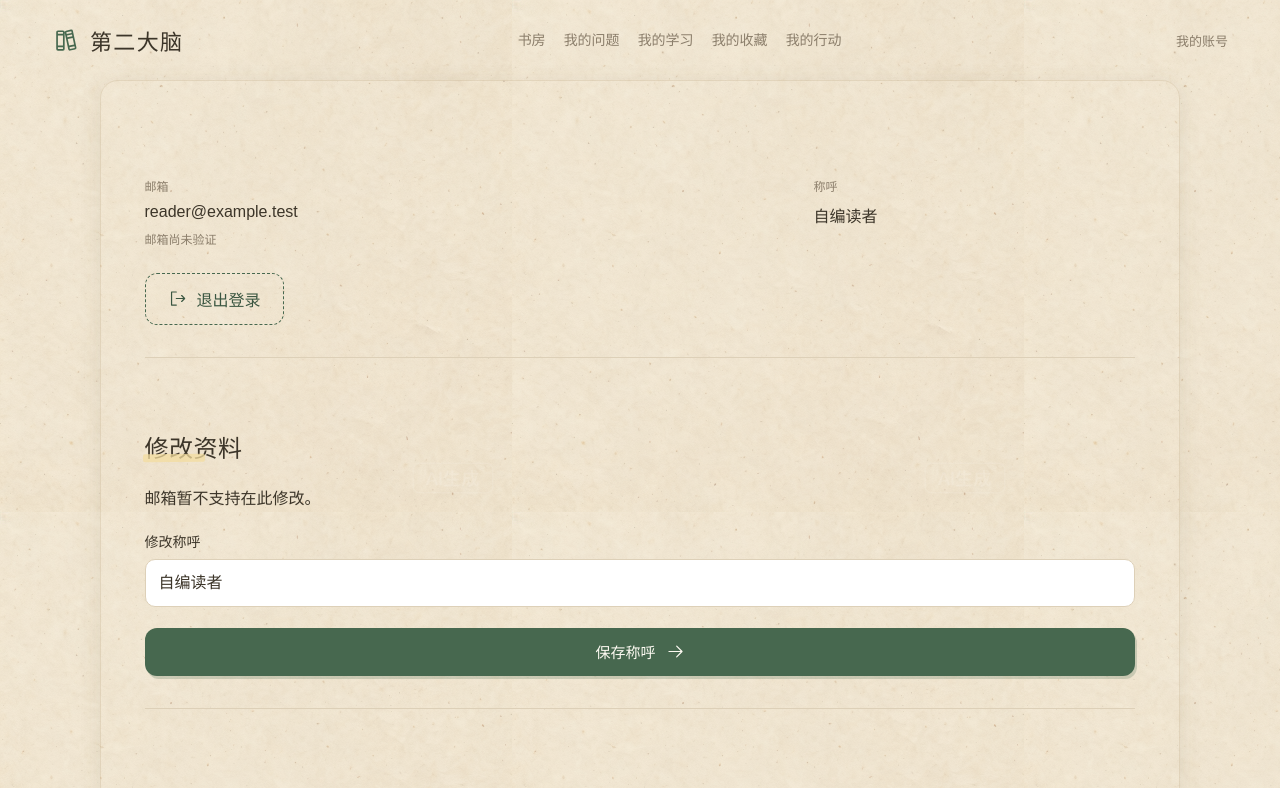
Scenario: 修改称呼只提交公开字段，成功更新当前账号显示
Replace the text in the field labelled "修改称呼" with "新称呼" at point(640, 583), box [144,559,1136,607]
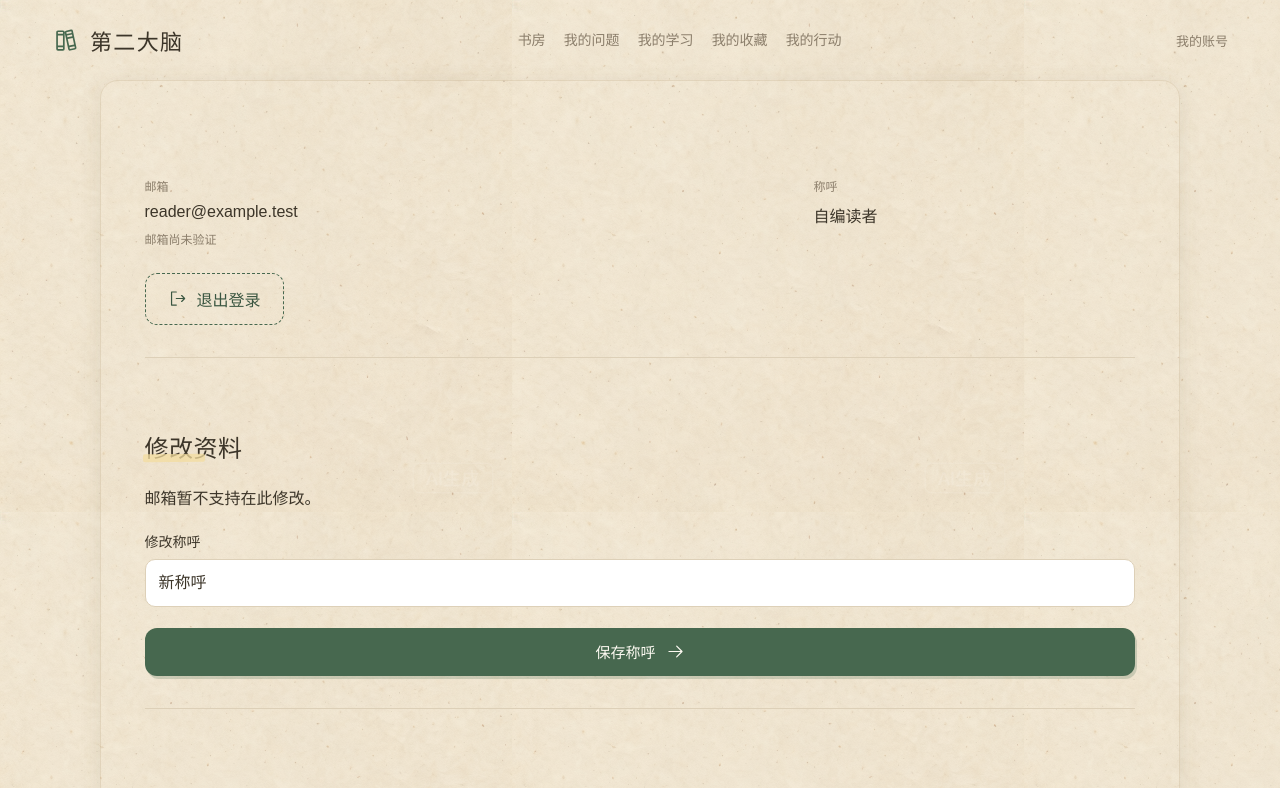
Click the button "保存称呼" at point(640, 652), box [144,628,1136,676]
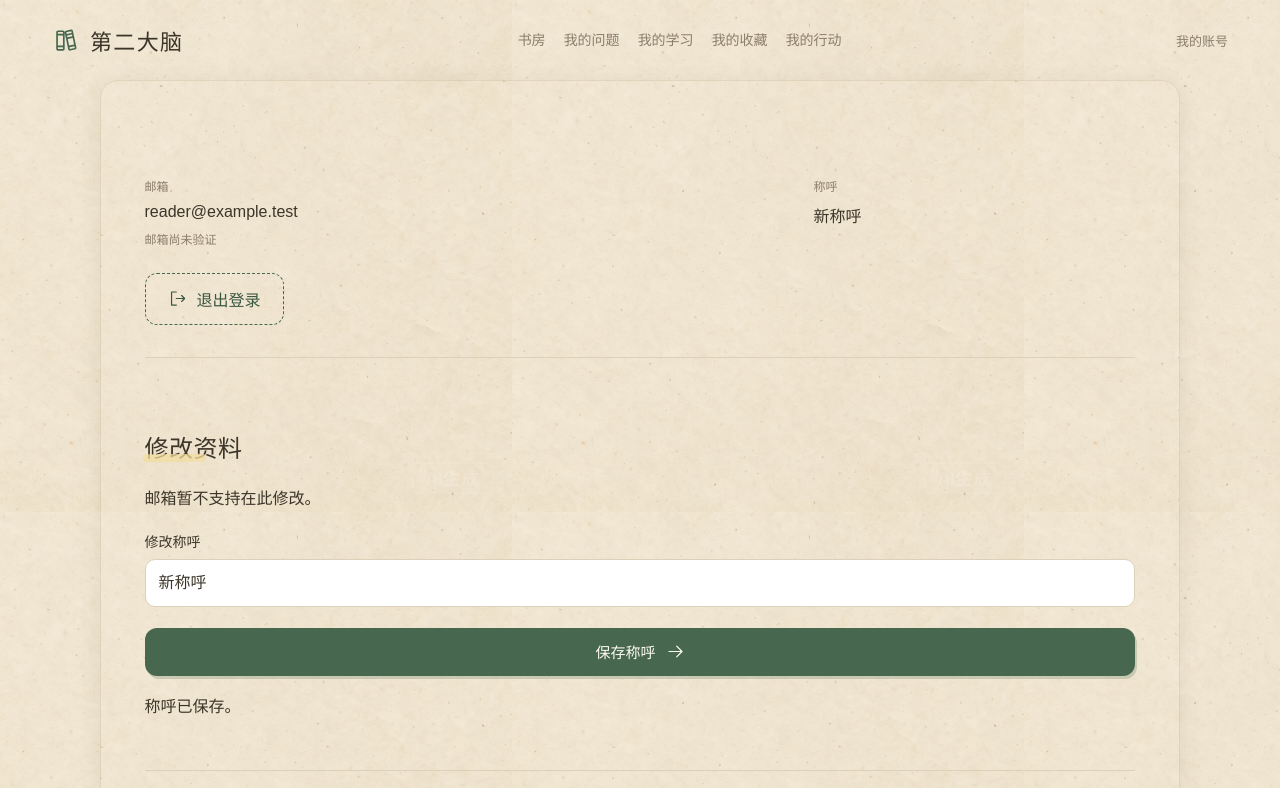
Result: the text "称呼已保存。" is shown at [144,698,240,715]
Result: the text "新称呼" is shown at [814,208,862,224]
